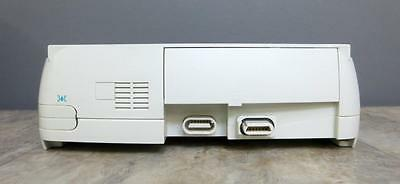BBraun Infusomat Space: (32, 39, 365, 155)
